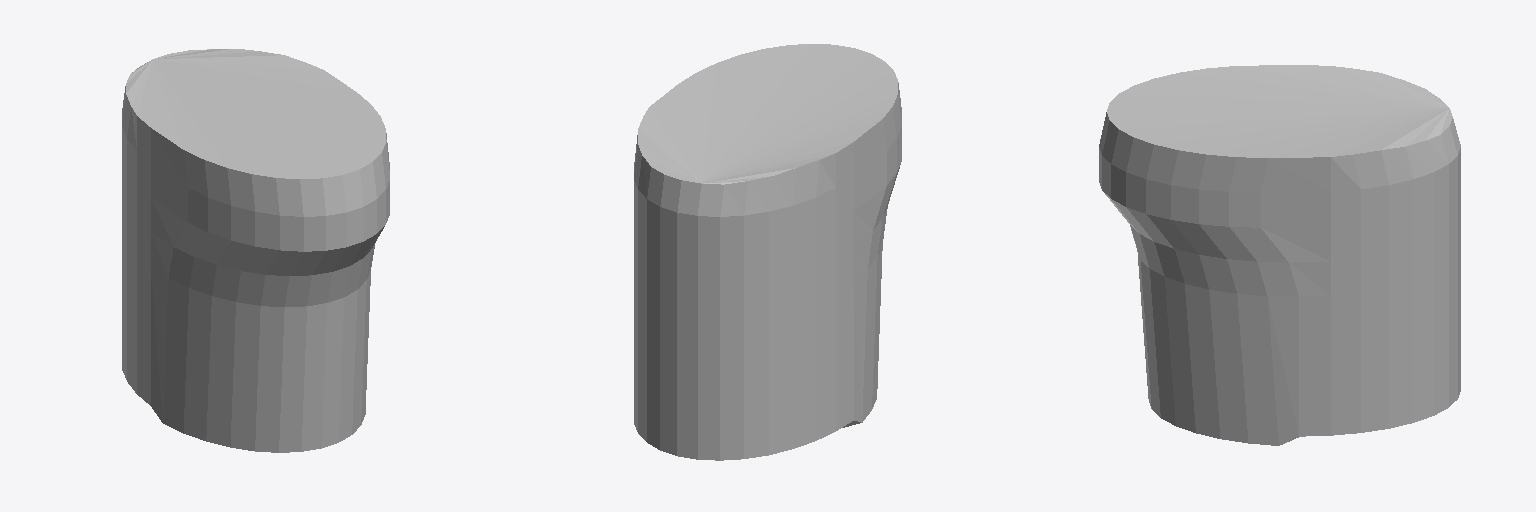
File: Tartaruga-pataTD.obj
3 views of the same model, side by side, from view 1: azimuth 30°, elevation 25°; view 2: azimuth 150°, elevation 25°; view 3: azimuth 270°, elevation 25° (orthographic).
Visible parts, largest first — view 1: Tartaruga-pataTD_Cylinder.002; view 2: Tartaruga-pataTD_Cylinder.002; view 3: Tartaruga-pataTD_Cylinder.002.
Part boxes in pixels (bbox=[...]): Tartaruga-pataTD_Cylinder.002: bbox=[122, 49, 389, 452]; Tartaruga-pataTD_Cylinder.002: bbox=[634, 44, 901, 460]; Tartaruga-pataTD_Cylinder.002: bbox=[1099, 65, 1460, 445].
Bounding box in the file's own units: 0.2912 × 0.421 × 0.4782.